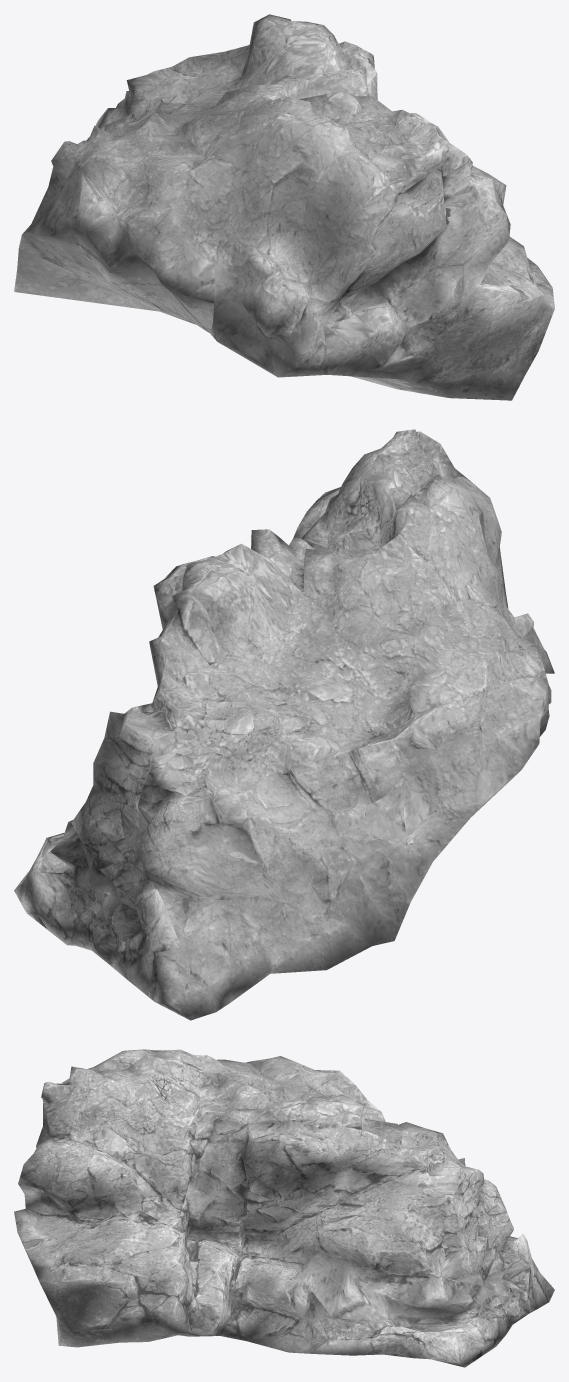
File: boulder_01.glb
The picture shows the model from 3 angles, top to bottom: view 1: azimuth 30°, elevation 25°; view 2: azimuth 150°, elevation 25°; view 3: azimuth 270°, elevation 25°; orthographic projection. The views are drawn at different scales.
Visible parts, largest first — view 1: boulder_01; view 2: boulder_01; view 3: boulder_01.
Boxes of the visible parts, left/top/right/bottom form: boulder_01: left=14, top=14, right=554, bottom=400; boulder_01: left=14, top=429, right=554, bottom=1020; boulder_01: left=14, top=1049, right=554, bottom=1367.
Bounding box in the file's own units: 1.27 × 0.9988 × 1.83.
1 material, 1 textured.
